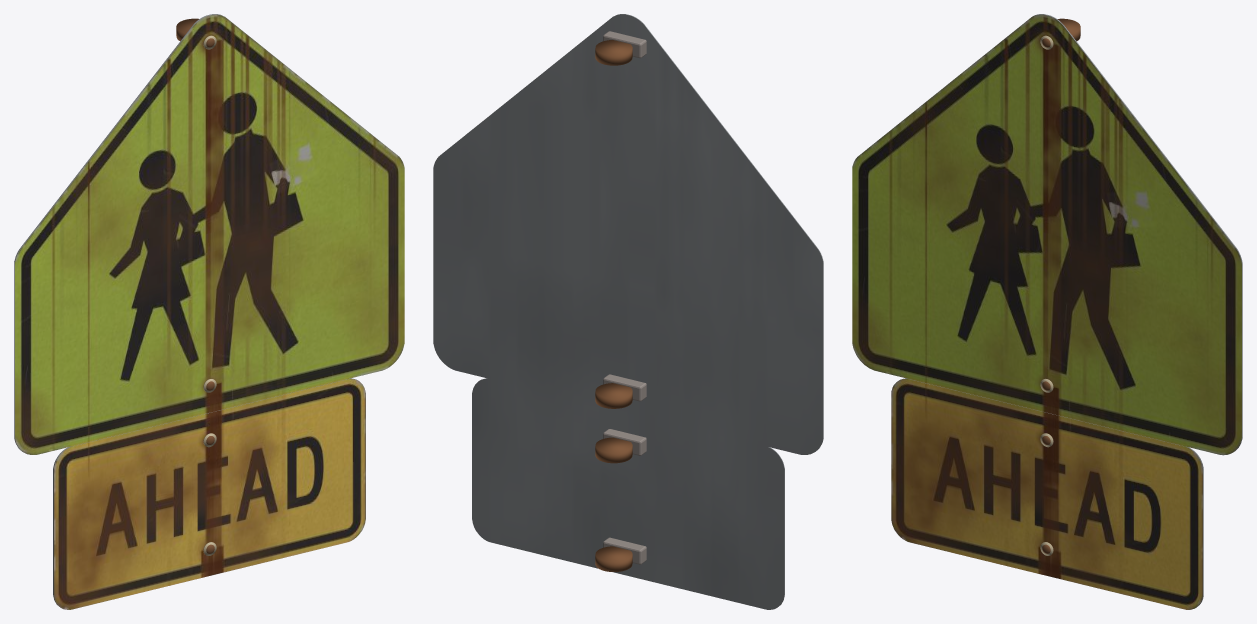
File: schoolAhead-v1-rusty.glb
3 renders of one model, left to right at view 1: azimuth 30°, elevation 25°; view 2: azimuth 150°, elevation 25°; view 3: azimuth 330°, elevation 25°, orthographic.
Parts seen in each view (by area): view 1: schoolAhead-v1-rusty; view 2: schoolAhead-v1-rusty; view 3: schoolAhead-v1-rusty.
Part boxes in pixels (<box>): schoolAhead-v1-rusty: <box>14,14,404,609</box>; schoolAhead-v1-rusty: <box>433,14,823,609</box>; schoolAhead-v1-rusty: <box>852,14,1242,609</box>.
Bounding box in the file's own units: 0.762 × 1.05 × 0.0871.
Materials: 1 (1 with a texture image).
